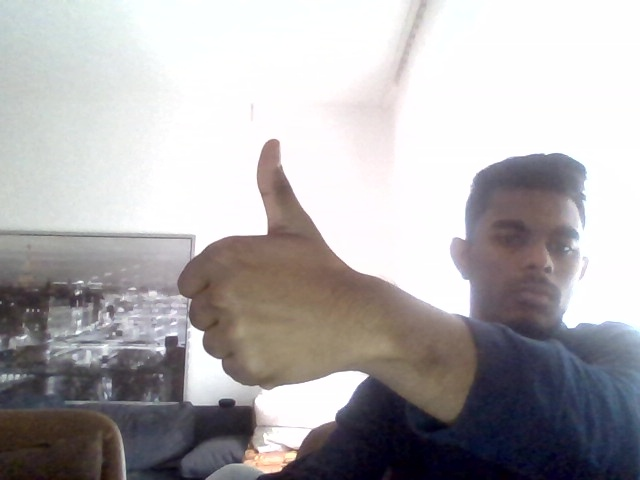tup: (176, 137, 371, 402)
